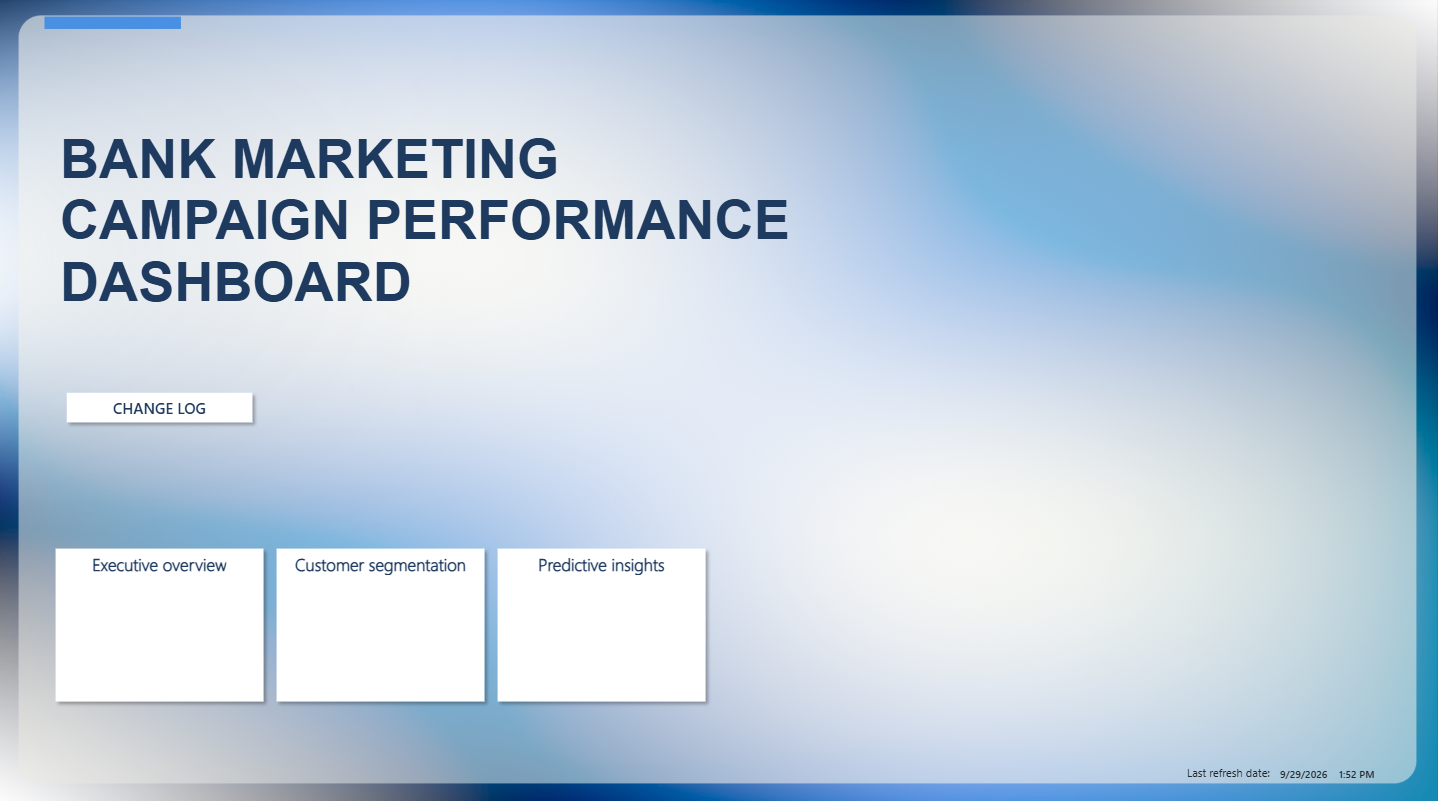

What the dashboard file says about the page in this screenshot:
{"tool":"powerbi","page":{"name":"Landing page","canvas":[1920,1080],"ordinal":0},"visuals":[{"type":"textbox","box":[85.1,175.6,1025.5,260.7],"z":0},{"type":"shape","box":[85.1,518.7,264.7,57.2],"z":1},{"type":"shape","box":[70.5,726.2,293.9,220.8],"z":2},{"type":"shape","box":[364.4,726.2,293.9,220.8],"z":3},{"type":"shape","box":[658.4,726.2,293.9,220.8],"z":4},{"type":"textbox","box":[1584.1,1022.8,284.6,25.3],"z":5},{"type":"cardVisual","fields":{"Data":["Min(DimDateTime.Date)"]},"box":[1691.3,1013.9,110.7,42.8],"z":8},{"type":"cardVisual","fields":{"Data":["Max(DimDateTime.Time)"]},"box":[1770.9,1013.9,110.7,42.8],"z":9}]}

Visuals, with their boxes in screenshot pixels (x1, y1, x2, y2), scaled from the page's 1920x1080 canvas onto the 1438x801 screenshot:
textbox: bbox=(64, 130, 832, 324)
shape: bbox=(64, 385, 262, 427)
shape: bbox=(53, 539, 273, 702)
shape: bbox=(273, 539, 493, 702)
shape: bbox=(493, 539, 713, 702)
textbox: bbox=(1186, 759, 1400, 777)
cardVisual - Min(DimDateTime.Date): bbox=(1267, 752, 1350, 784)
cardVisual - Max(DimDateTime.Time): bbox=(1326, 752, 1409, 784)
